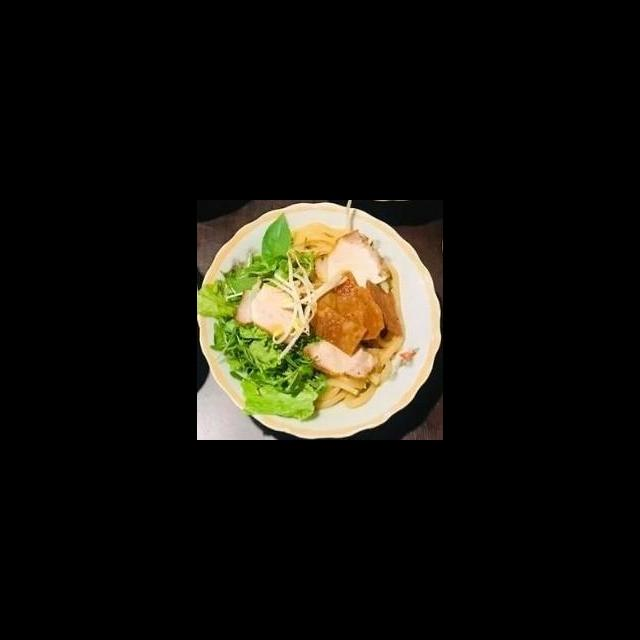banh da: (312, 268, 386, 344), (303, 295, 370, 359), (363, 278, 406, 339)
mi: (310, 371, 384, 412), (355, 331, 408, 384), (285, 220, 351, 262)
thit heo: (310, 227, 392, 297), (230, 281, 307, 347), (301, 336, 378, 383)
